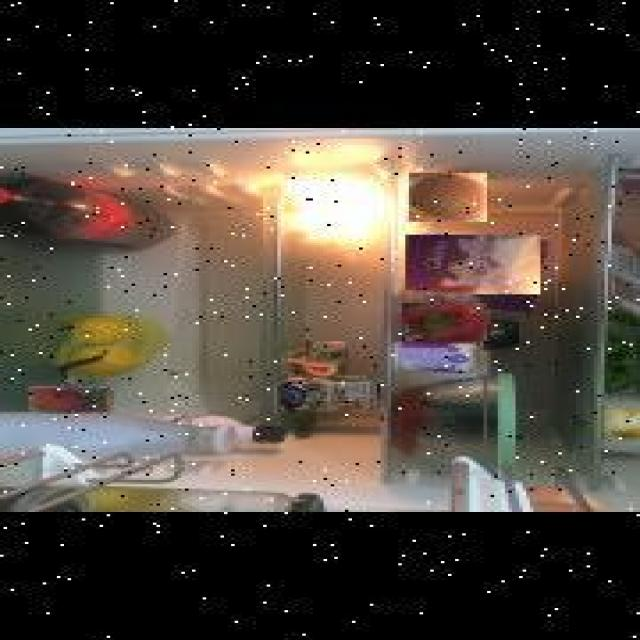apple: (31, 387, 108, 413)
bell_pepper: (402, 303, 487, 341)
garlic: (282, 352, 332, 380)
grated_cheese: (406, 236, 540, 295)
guacamole: (306, 341, 345, 363)
heavy_cream: (281, 376, 377, 411), (611, 168, 640, 209)
lemon: (64, 316, 128, 346)
mango: (406, 173, 484, 222)
salad: (608, 327, 640, 392)
yogurt: (391, 342, 477, 372)
